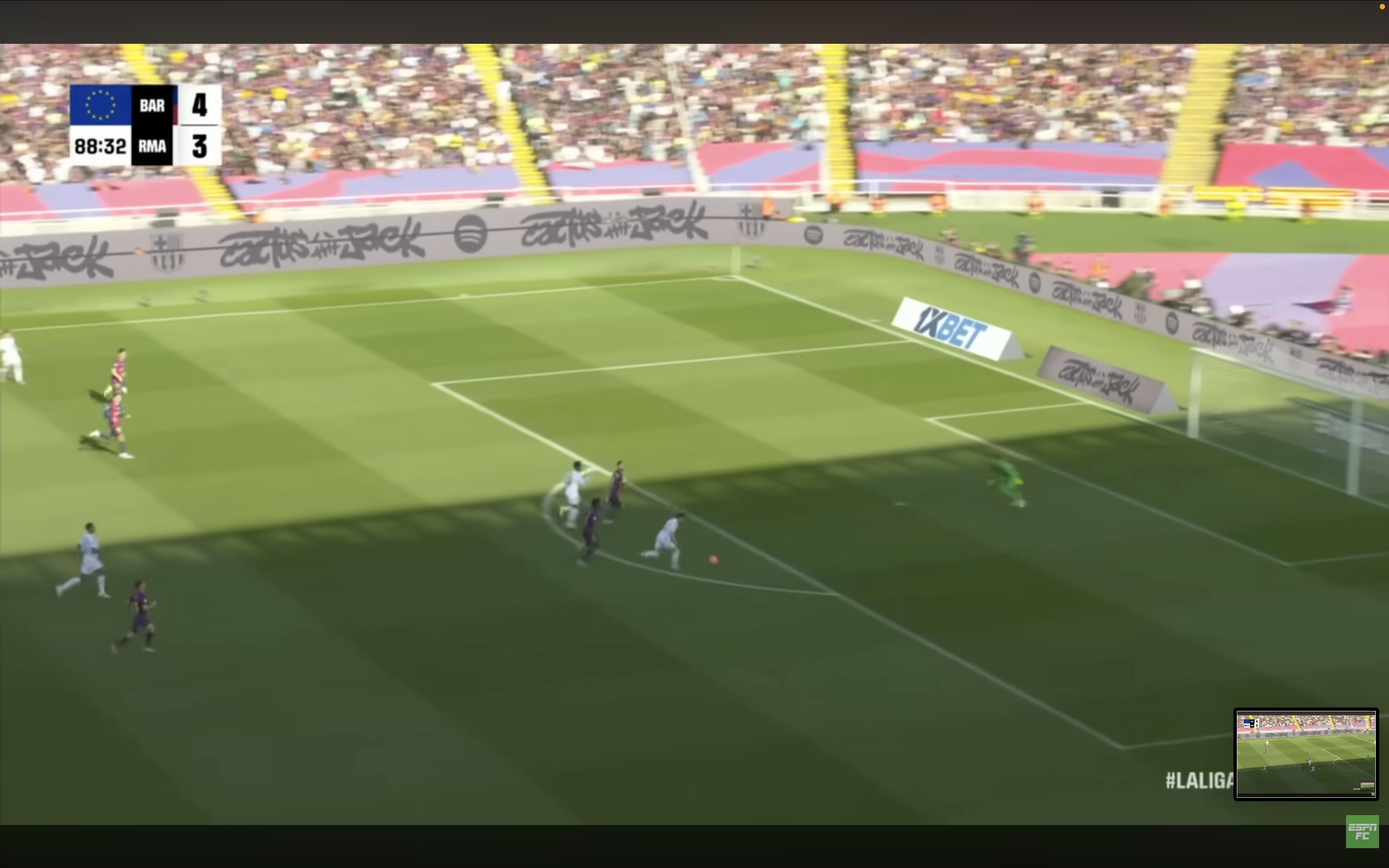ball: (709, 556, 720, 565)
goalkeeper: (988, 457, 1025, 508)
player: (56, 523, 108, 598), (84, 391, 134, 458), (110, 581, 155, 654), (642, 513, 684, 570), (560, 460, 588, 528), (578, 498, 601, 567), (0, 330, 24, 384), (103, 348, 127, 401), (605, 460, 625, 523)
